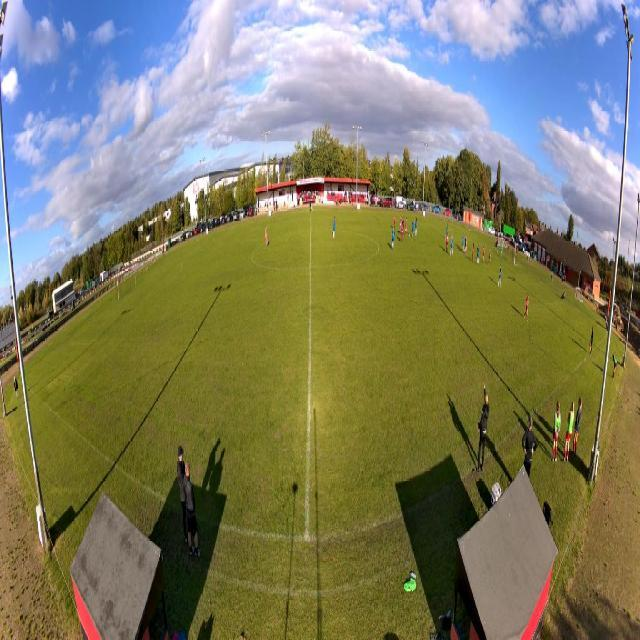ball: (409, 233, 410, 238)
player: (524, 292, 530, 322), (497, 264, 502, 289), (391, 224, 395, 250), (332, 215, 336, 239), (450, 234, 454, 258), (265, 224, 269, 248), (411, 219, 416, 238), (476, 244, 480, 265), (488, 246, 492, 267), (482, 245, 486, 265), (461, 232, 465, 251), (393, 213, 397, 231), (446, 232, 449, 253), (472, 242, 475, 263), (401, 222, 404, 242), (405, 217, 408, 237), (464, 235, 467, 255), (415, 217, 418, 237), (399, 216, 402, 234), (402, 216, 405, 234), (465, 234, 468, 252), (446, 223, 449, 239), (500, 242, 503, 258)
